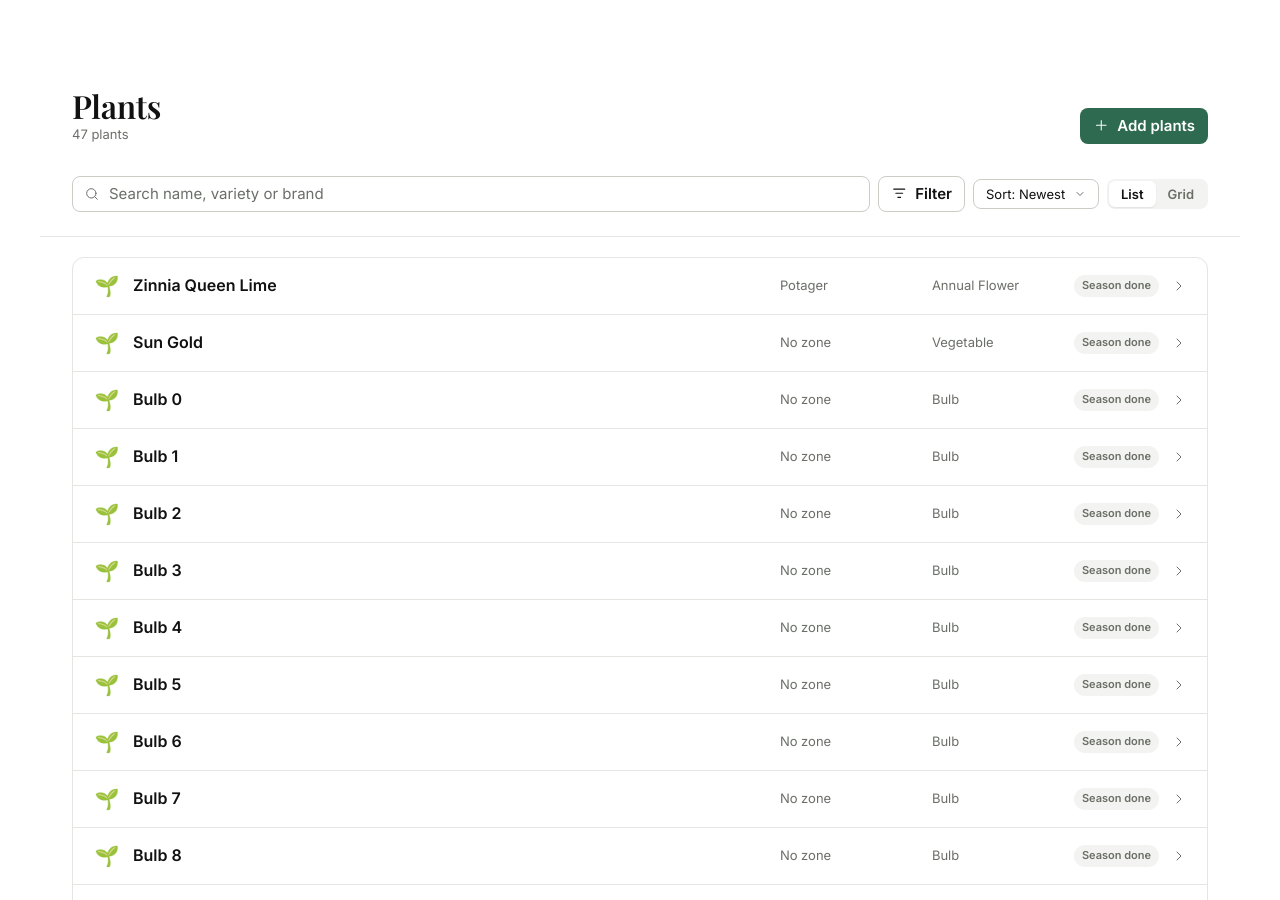
Plants page filters › applies filters from the sheet only when you press Show
Click the button "Filter" at (921, 194), box [878, 176, 965, 212]
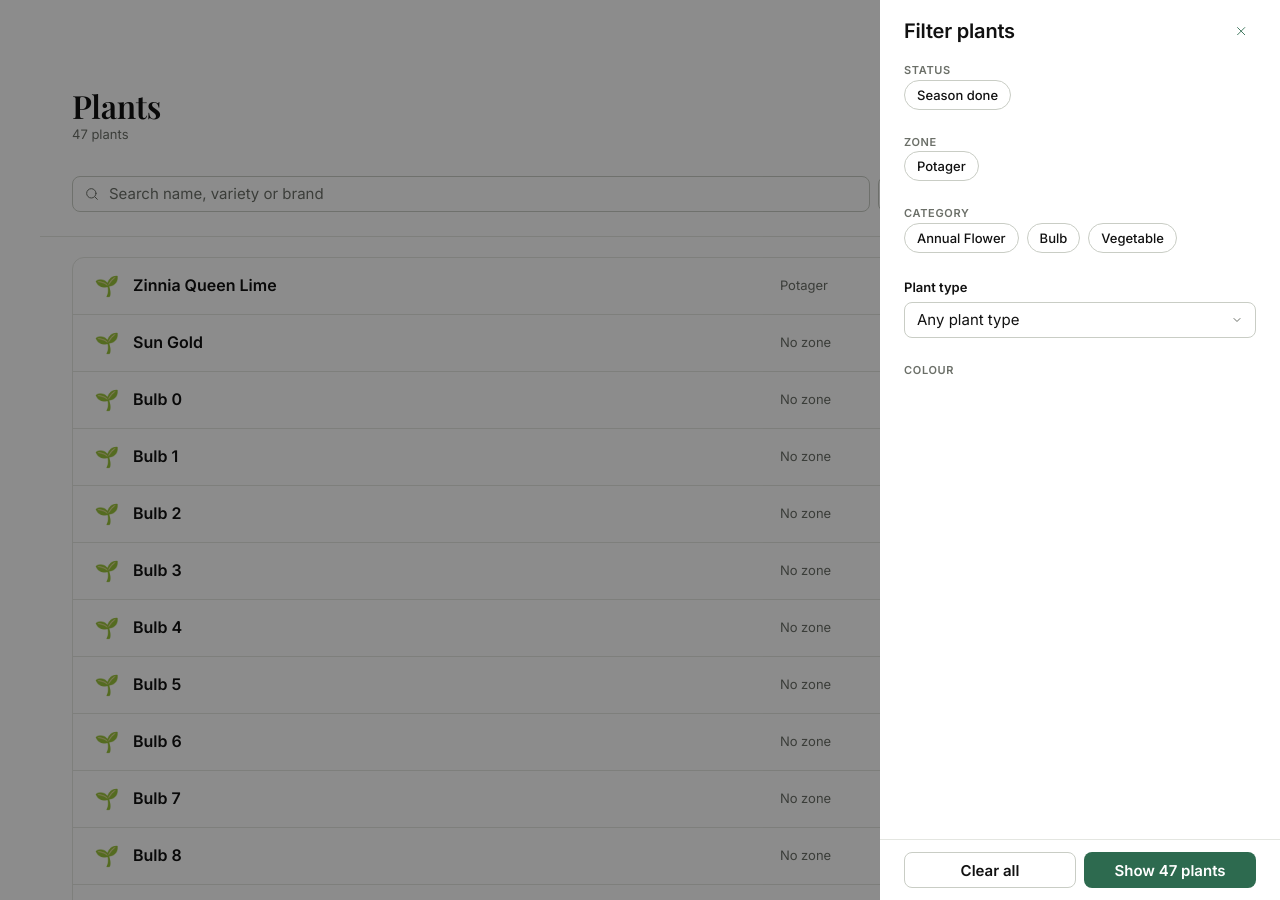
Select "Tomato" in the dropdown labelled "Plant type" at (1080, 320), box [904, 302, 1256, 338]
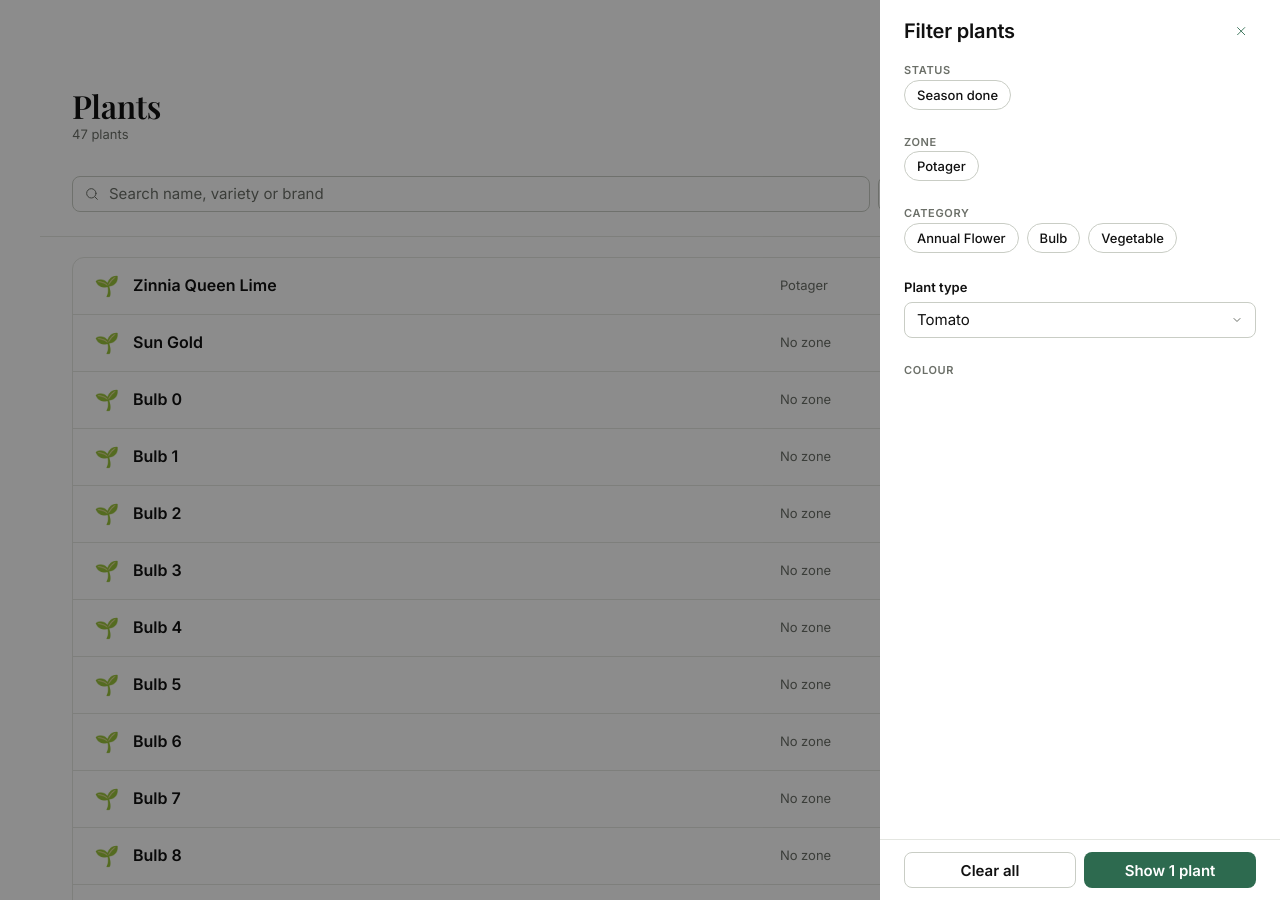
expect the text "Zinnia Queen Lime" is shown: met, box [133, 275, 277, 295]
Click the button "Show 1 plant" at (1170, 870), box [1084, 852, 1256, 888]
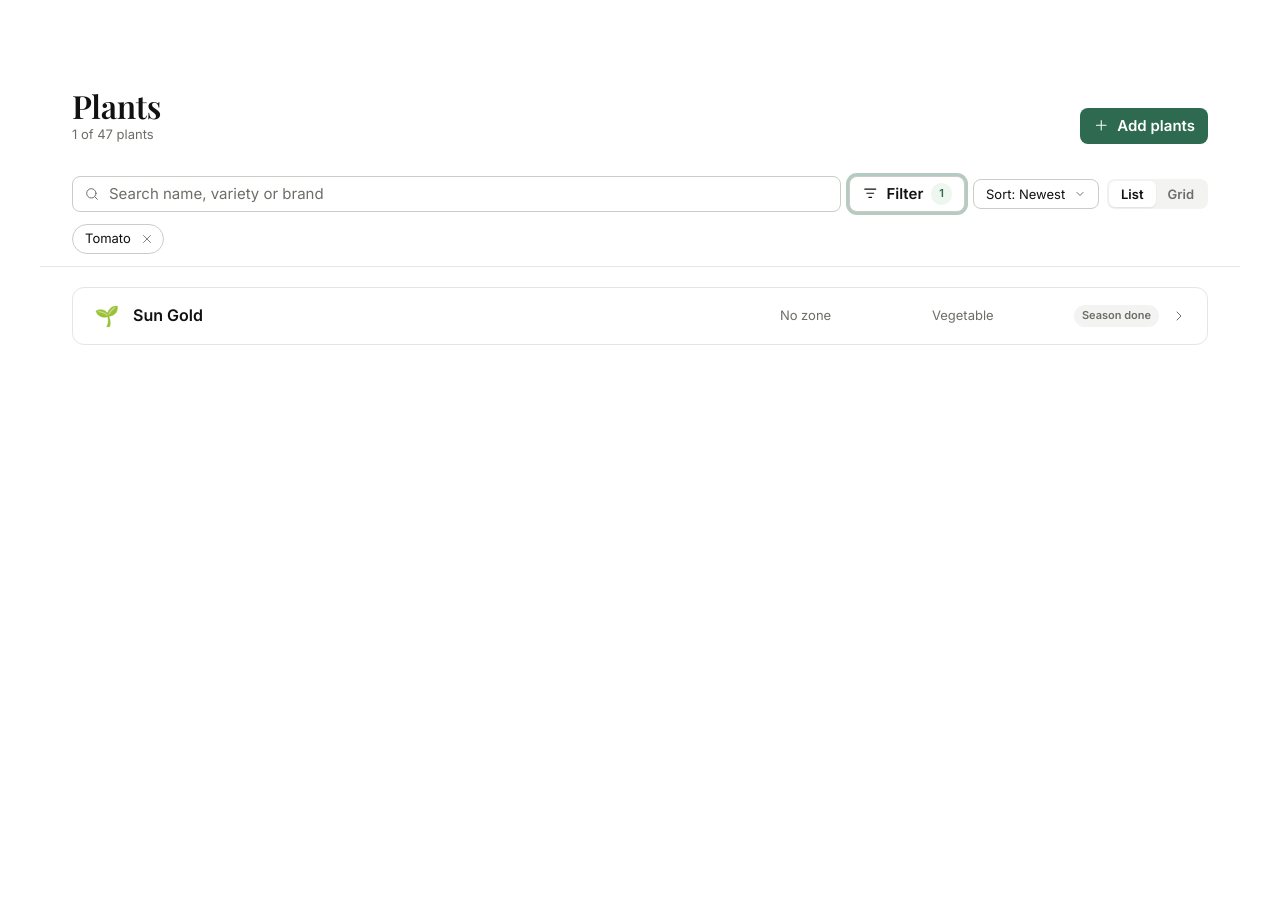
expect the dialog is gone: met
expect the link "Zinnia Queen Lime" is gone: met
expect the text "1 of 47 plants" is shown: met, box [72, 125, 161, 144]
